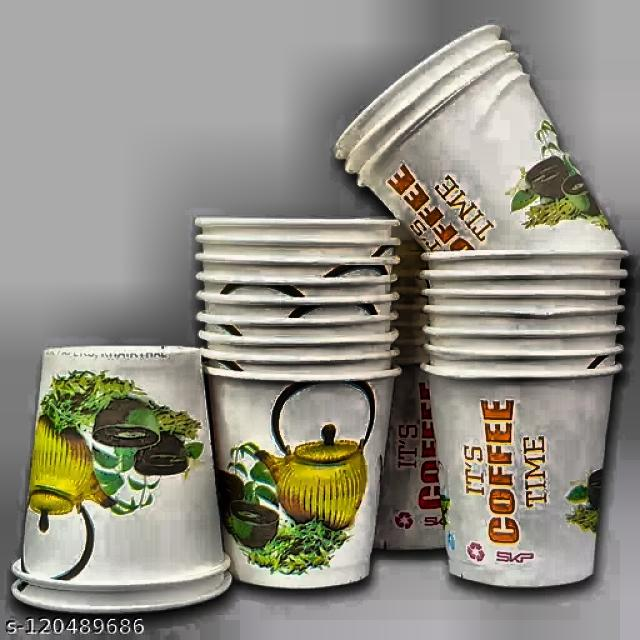Cup: (321, 8, 631, 323), (180, 207, 392, 590), (413, 240, 636, 597), (8, 333, 238, 617)
